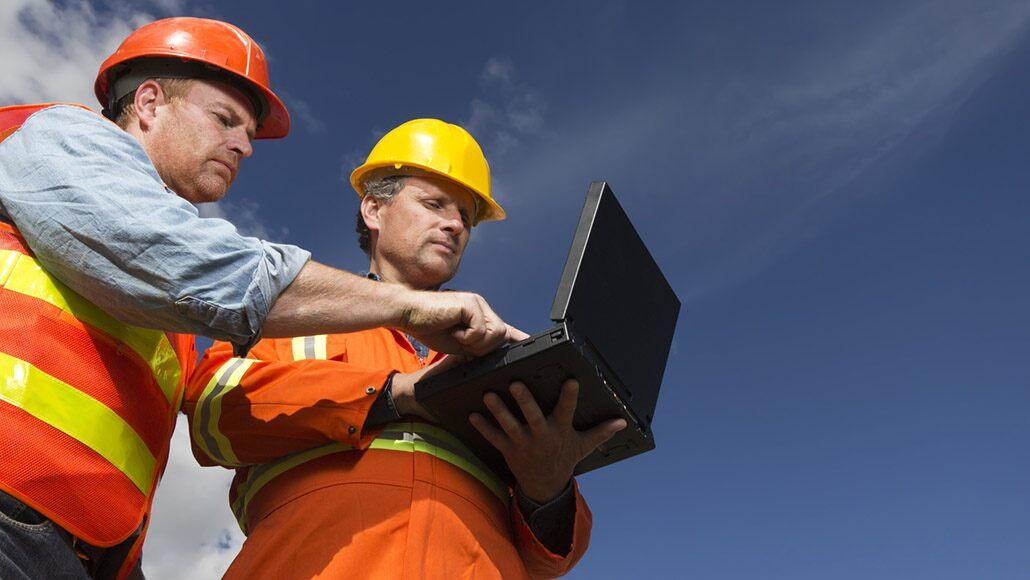helmet: (92, 17, 293, 142), (353, 118, 512, 223)
